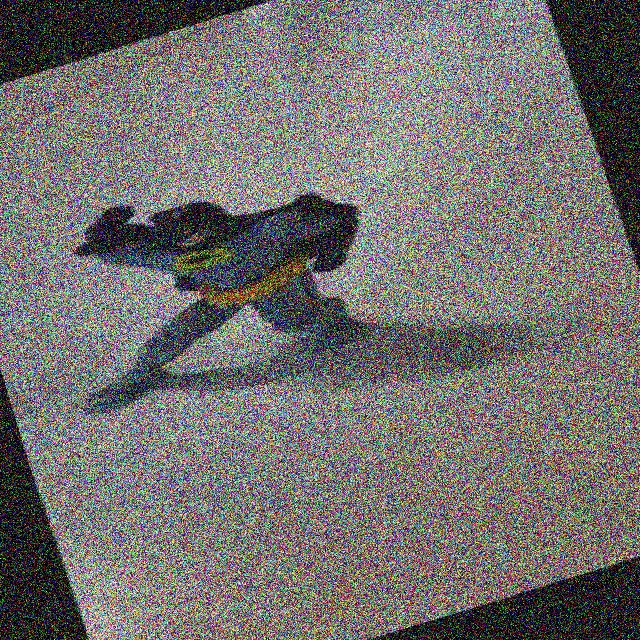Batman: (19, 98, 488, 470)
